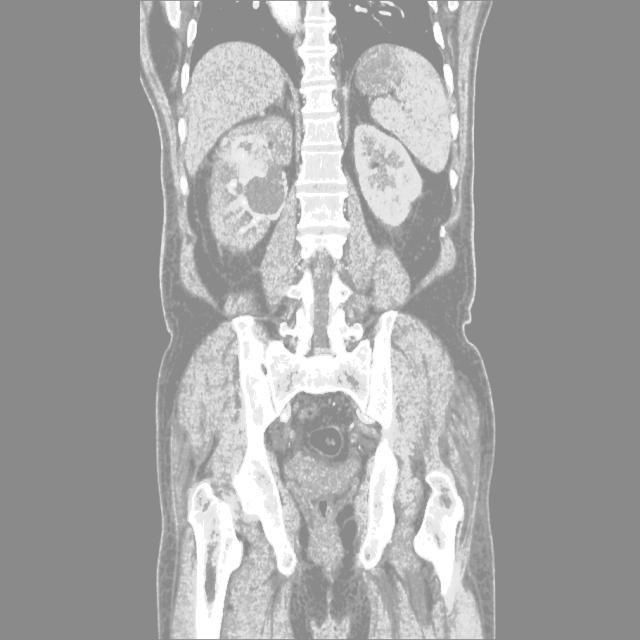TUMOR: (159, 63, 465, 323)
